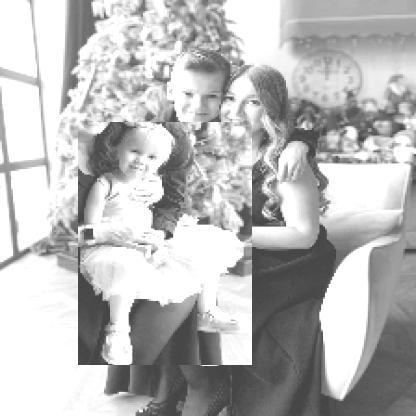child: (79, 123, 254, 367)
